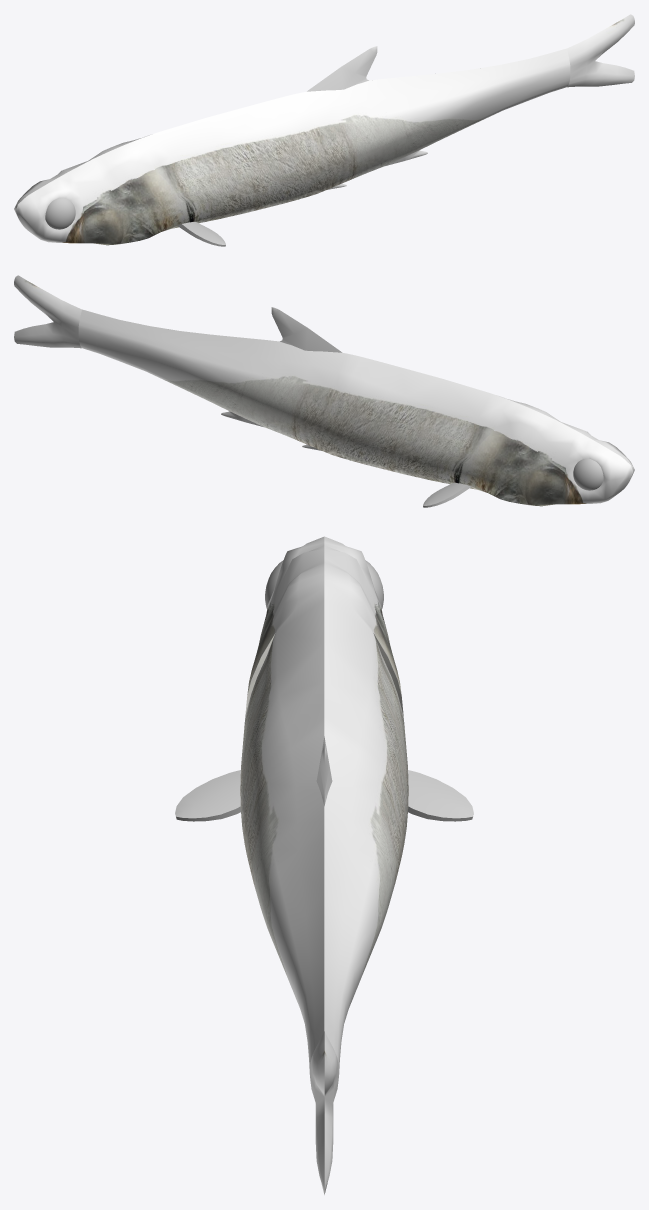
The model's file is Anchovy 3.FBX.
3 renders of one model, top to bottom at view 1: azimuth 30°, elevation 25°; view 2: azimuth 150°, elevation 25°; view 3: azimuth 270°, elevation 25°, orthographic. The views are drawn at different scales.
Visible parts, largest first — view 1: Body_Skin_L, Tale_Fin, Dorsal_Fin_Skin, Eye_L, Pectoral_L, Body_Skin_R; view 2: Body_Skin_R, Tale_Fin, Dorsal_Fin_Skin, Eye_R, Pectoral_R, Body_Skin_L; view 3: Body_Skin_R, Body_Skin_L, Tale_Fin, Pectoral_R, Pectoral_L.
Boxes of the visible parts, left/top/right/bottom form: Body_Skin_L: left=16, top=48, right=570, bottom=245; Tale_Fin: left=567, top=14, right=634, bottom=87; Dorsal_Fin_Skin: left=307, top=46, right=377, bottom=91; Eye_L: left=45, top=197, right=75, bottom=229; Pectoral_L: left=177, top=221, right=225, bottom=246; Body_Skin_R: left=14, top=135, right=149, bottom=228; Body_Skin_R: left=78, top=309, right=632, bottom=506; Tale_Fin: left=14, top=275, right=81, bottom=348; Dorsal_Fin_Skin: left=271, top=307, right=341, bottom=352; Eye_R: left=573, top=458, right=603, bottom=490; Pectoral_R: left=423, top=482, right=471, bottom=507; Body_Skin_L: left=499, top=396, right=634, bottom=489; Body_Skin_R: left=324, top=536, right=408, bottom=1074; Body_Skin_L: left=240, top=537, right=324, bottom=1074; Tale_Fin: left=310, top=1031, right=338, bottom=1195; Pectoral_R: left=408, top=770, right=473, bottom=821; Pectoral_L: left=175, top=770, right=240, bottom=821.
Bounding box in the file's own units: 1784 × 365 × 373.
